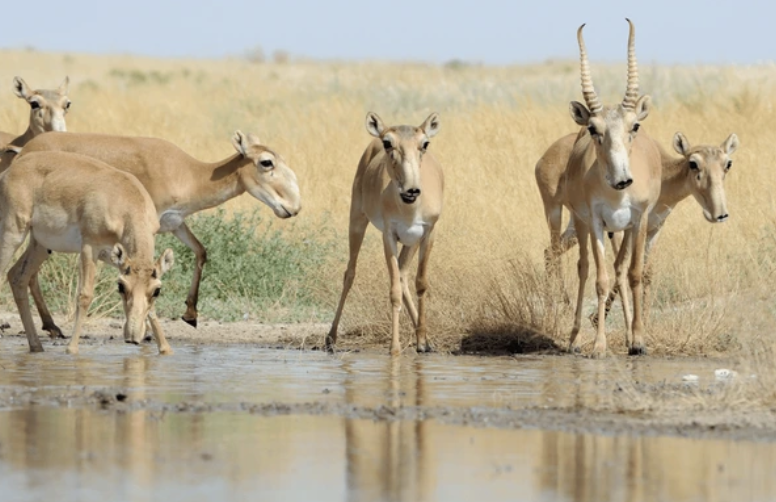saiga: (558, 19, 672, 355), (331, 111, 447, 370)
